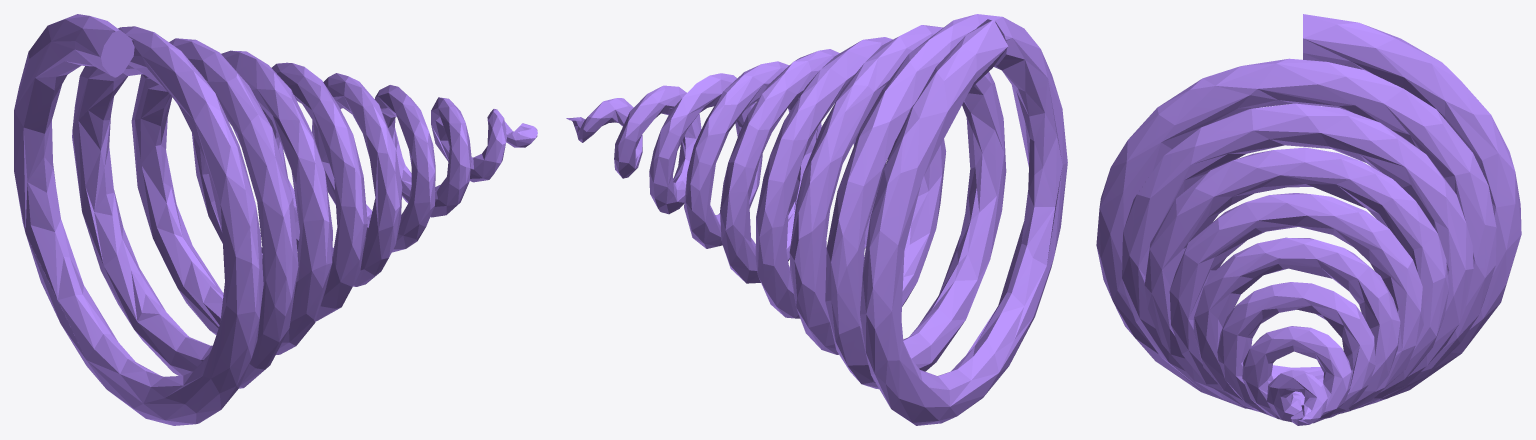
File: spiral.fbx
3 views of the same model, side by side, from view 1: azimuth 30°, elevation 25°; view 2: azimuth 150°, elevation 25°; view 3: azimuth 270°, elevation 25° (orthographic).
Parts seen in each view (by area): view 1: Spiral; view 2: Spiral; view 3: Spiral.
Part boxes in pixels (bbox=[...]): Spiral: bbox=[14, 14, 537, 425]; Spiral: bbox=[566, 14, 1067, 425]; Spiral: bbox=[1096, 14, 1521, 425].
Bounding box in the file's own units: 6339 × 5418 × 5381.
